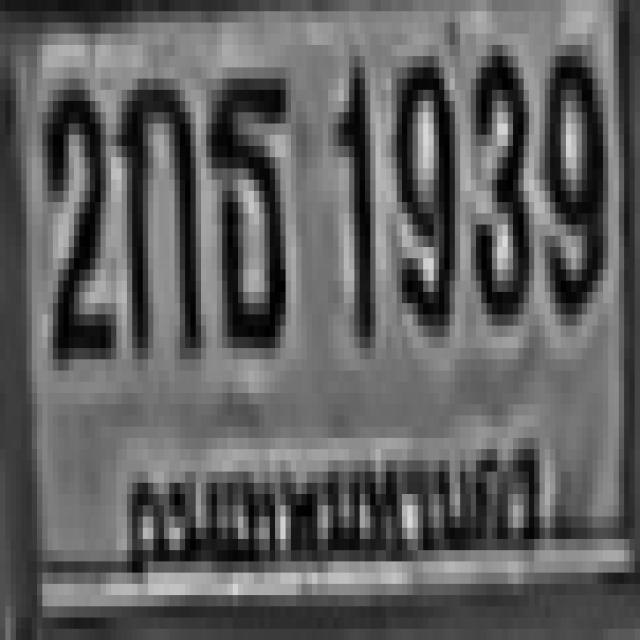1: (333, 56, 370, 337)
10GorGai: (116, 67, 196, 348)
2: (40, 73, 109, 354)
3: (468, 34, 526, 314)
33ThorThong: (206, 67, 286, 337)
9: (540, 34, 598, 314), (392, 45, 449, 326)
Bangkok: (120, 436, 550, 561)
